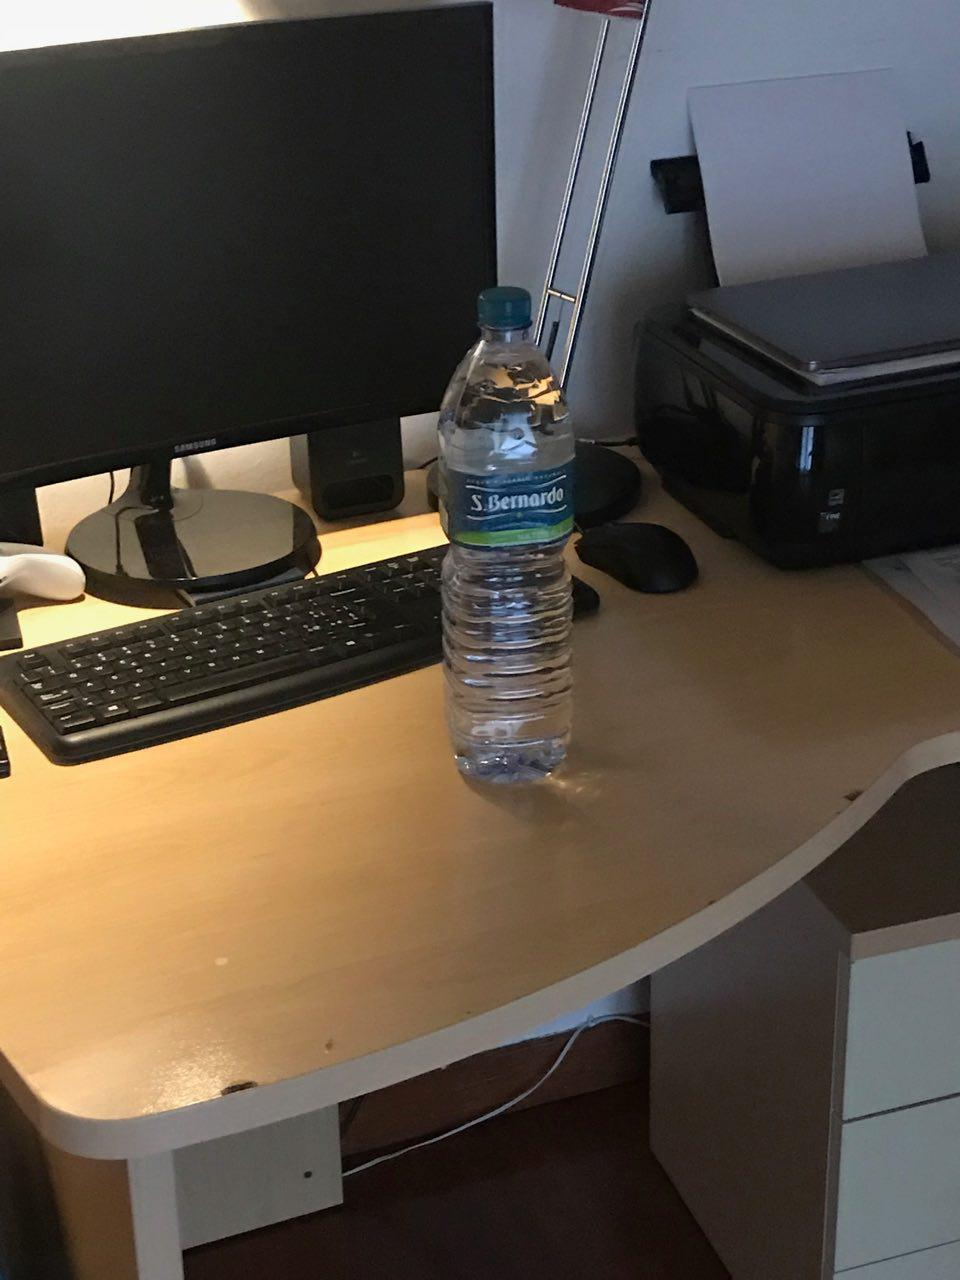san_bernardo: (437, 283, 577, 784)
